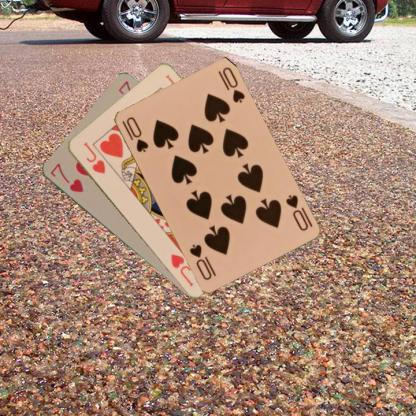10s: (119, 114, 150, 154), (282, 192, 310, 232)
7h: (47, 161, 84, 194)
Jh: (80, 139, 107, 175)
